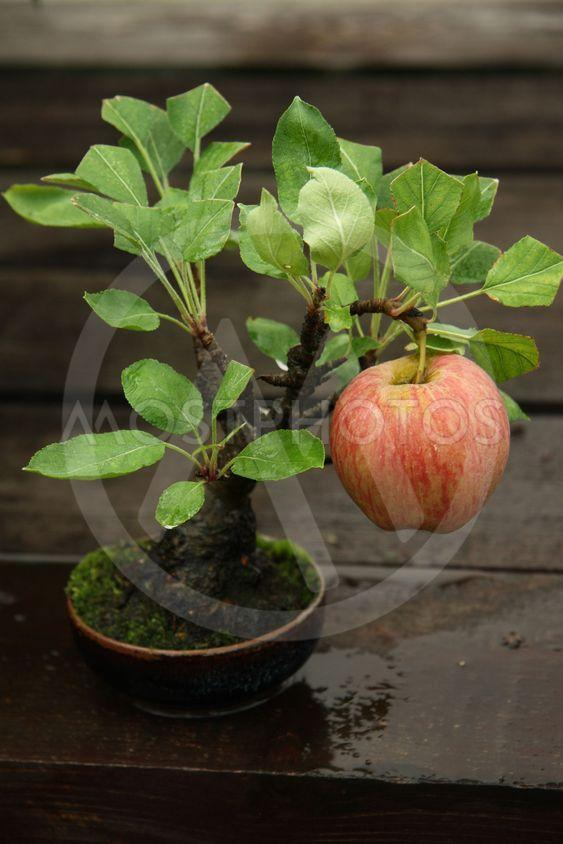apple: (324, 347, 511, 537)
